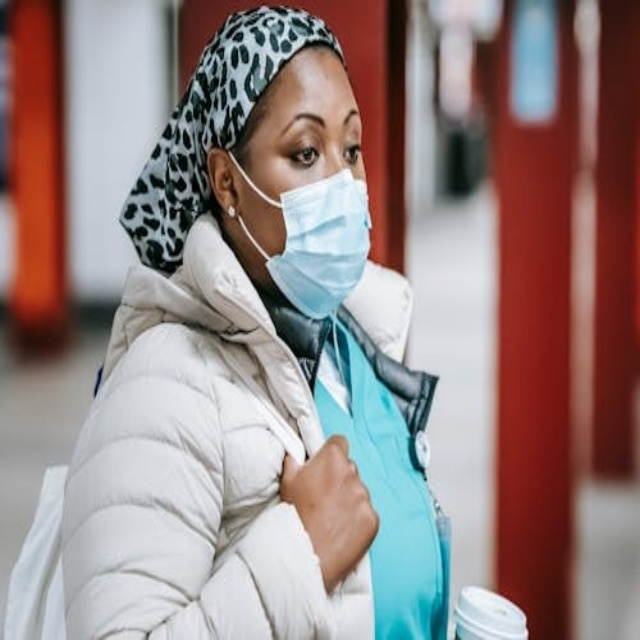Mascara: (244, 151, 372, 321)
Sin_gafas: (252, 111, 371, 173)
Sin_guantes: (278, 430, 378, 593)
